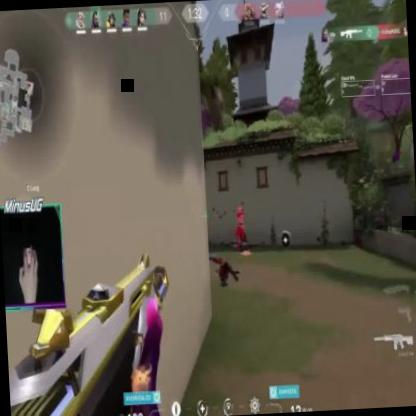enemy: (233, 204, 246, 250)
enemy_head: (236, 206, 242, 216)
